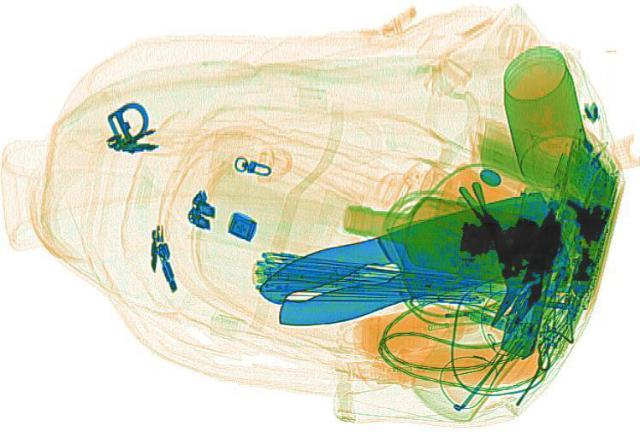Knife: (242, 187, 590, 341), (239, 186, 581, 333)
